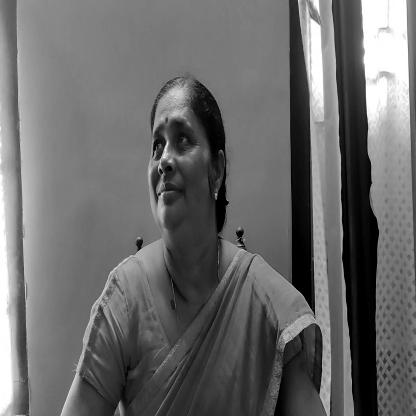Distracted: (146, 73, 226, 253)
